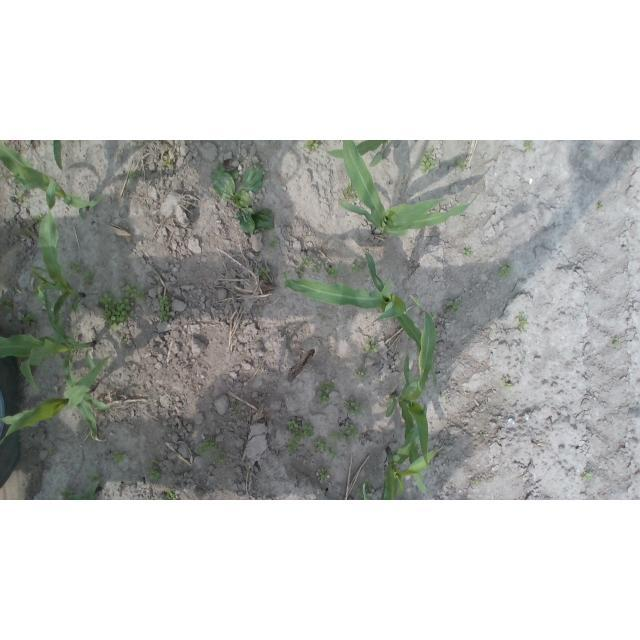Maize: (284, 253, 438, 390), (0, 291, 98, 440), (338, 140, 471, 237), (382, 295, 438, 493), (0, 354, 112, 444), (29, 179, 86, 344), (1, 141, 104, 222), (380, 404, 444, 501), (326, 141, 388, 168), (69, 481, 102, 500), (53, 141, 63, 172)
Weeds: (211, 162, 276, 235), (99, 292, 131, 332), (329, 424, 360, 445), (200, 443, 225, 464), (287, 419, 314, 438), (316, 380, 336, 404), (120, 284, 144, 301), (344, 399, 365, 417), (157, 295, 171, 322), (18, 309, 39, 326), (147, 459, 162, 481), (419, 155, 435, 173), (286, 435, 302, 452), (343, 181, 358, 199), (517, 312, 529, 332), (67, 260, 84, 274), (351, 259, 366, 274), (444, 299, 460, 313), (314, 437, 328, 452), (60, 486, 75, 500), (82, 271, 94, 288), (498, 264, 515, 276), (365, 339, 378, 354), (327, 264, 340, 279), (300, 255, 313, 268), (258, 268, 270, 281), (318, 467, 331, 479), (114, 451, 127, 463), (0, 298, 12, 311), (454, 158, 468, 169), (87, 472, 101, 483), (356, 368, 369, 379), (305, 140, 319, 150), (364, 480, 374, 493), (502, 378, 513, 389), (267, 238, 277, 249), (167, 490, 178, 500), (15, 194, 27, 203), (162, 155, 171, 167), (296, 269, 305, 280), (34, 213, 43, 224), (582, 472, 593, 481), (357, 488, 364, 501), (429, 312, 438, 322), (312, 264, 321, 273), (329, 451, 339, 459), (523, 140, 533, 148), (463, 248, 473, 256), (24, 228, 32, 237), (612, 339, 620, 348), (118, 336, 128, 343), (128, 172, 136, 180), (232, 412, 240, 418), (283, 270, 290, 276), (232, 401, 239, 407), (597, 204, 603, 210), (427, 148, 434, 153), (522, 359, 527, 365), (473, 480, 480, 484)
